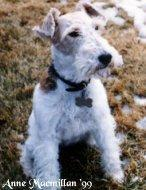wire-haired_fox_terrier: (18, 3, 128, 189)
